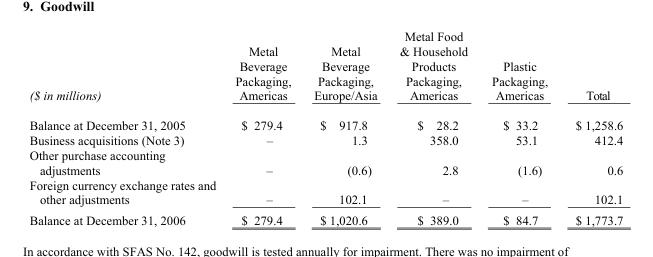table: (28, 28, 622, 226)
table column: (28, 28, 224, 226), (387, 28, 479, 226), (301, 28, 387, 226), (479, 28, 560, 226), (224, 28, 301, 226), (560, 28, 622, 226)
table column header: (28, 28, 622, 110)
table row: (28, 28, 622, 110), (28, 176, 622, 209), (28, 147, 622, 176), (28, 110, 622, 132), (28, 209, 622, 226), (28, 132, 622, 147)
